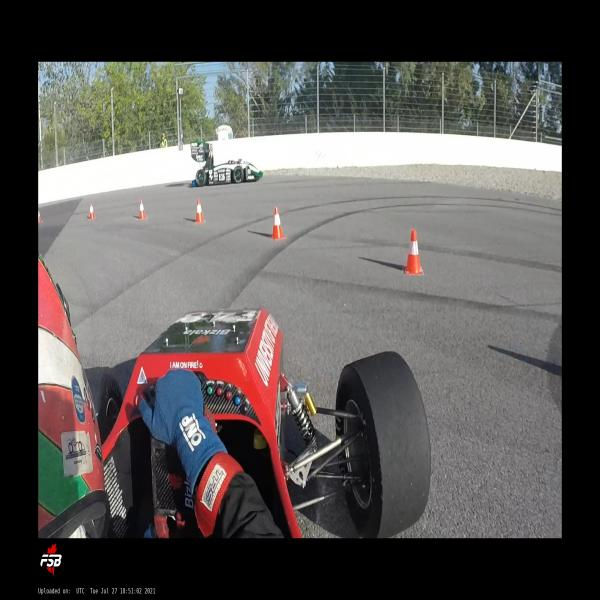orange_cone: (403, 228, 423, 275), (271, 207, 286, 240), (194, 199, 205, 224), (137, 198, 147, 220), (88, 203, 96, 220), (38, 210, 43, 224)
